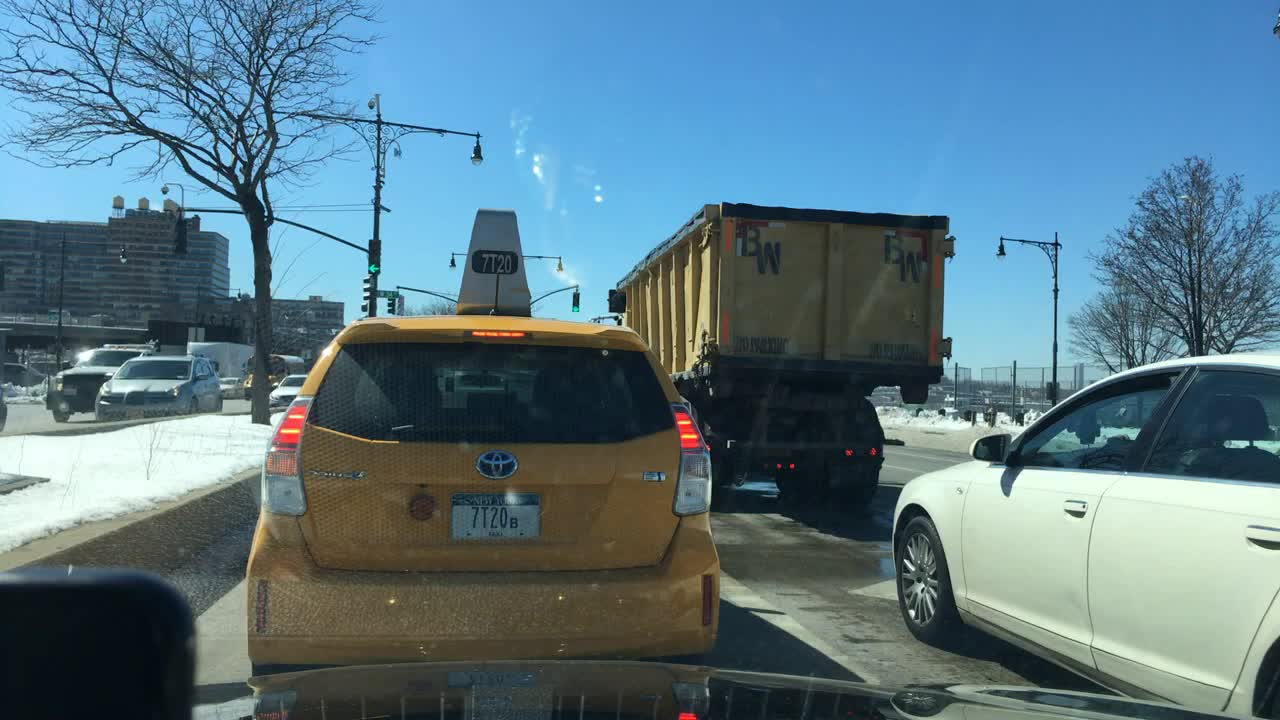bus: (240, 349, 306, 403)
car: (242, 207, 723, 673), (894, 349, 1278, 717), (93, 352, 228, 417), (267, 371, 308, 411), (0, 359, 51, 388), (215, 373, 249, 401)
traffic light: (173, 218, 190, 255), (371, 238, 381, 273), (572, 290, 580, 312), (363, 276, 371, 298), (388, 303, 395, 314)
traffic sign: (377, 290, 401, 299)
truck: (606, 198, 957, 510), (43, 337, 158, 424), (184, 340, 263, 379)
